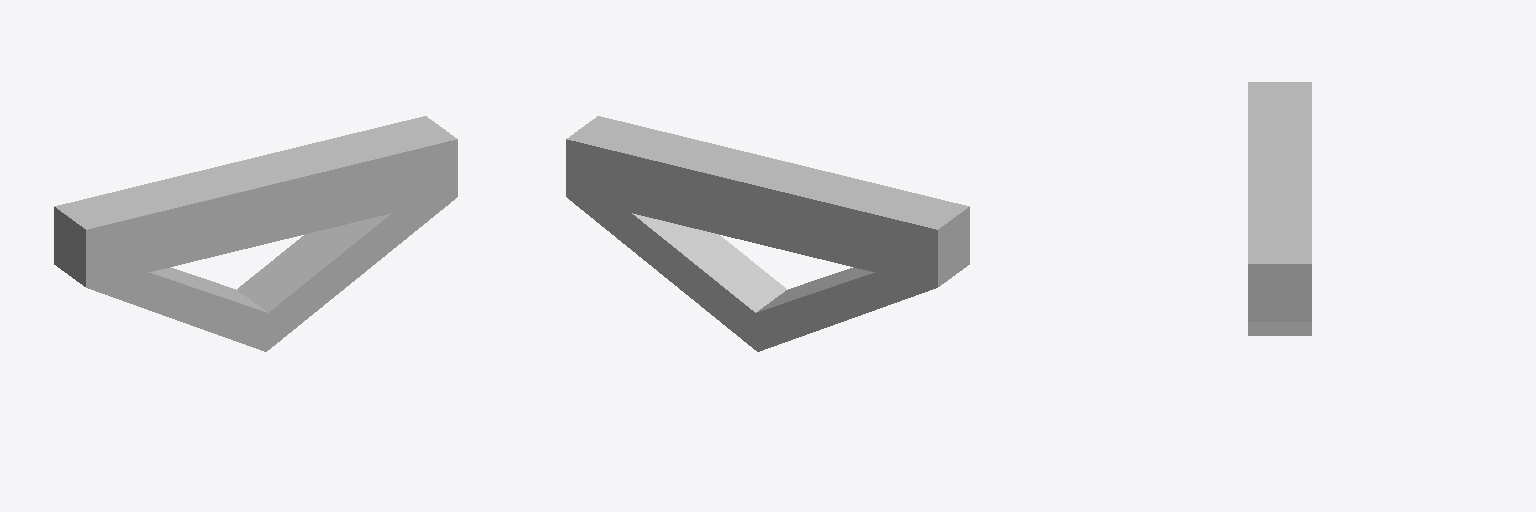
File: Platform6.obj
3 renders of one model, left to right at view 1: azimuth 30°, elevation 25°; view 2: azimuth 150°, elevation 25°; view 3: azimuth 270°, elevation 25°, orthographic.
Visible parts, largest first — view 1: pCube12; view 2: pCube12; view 3: pCube12.
Boxes of the visible parts, x1=… form: pCube12: x1=54, y1=116, x2=457, y2=351; pCube12: x1=566, y1=116, x2=969, y2=351; pCube12: x1=1248, y1=82, x2=1311, y2=335.
Size of the model in its own units: 6.71 by 2.87 by 1.